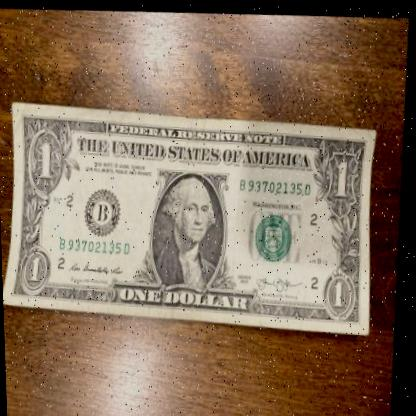one-front: (0, 85, 390, 344)
